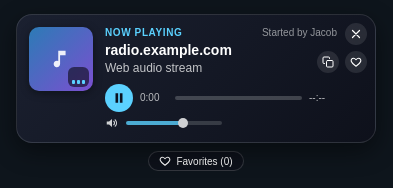
Scenario: RoomStreamWidgetView › can save the song from the chip while the music is off
Click the button named "Turn the room music off for me".
click(356, 34)  # box [345, 23, 367, 45]
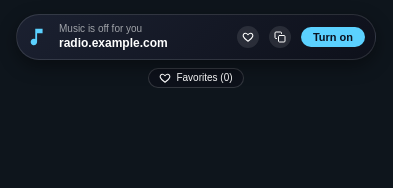
Click the button named "Save this song to my favorites".
click(248, 37)  # box [237, 26, 259, 48]
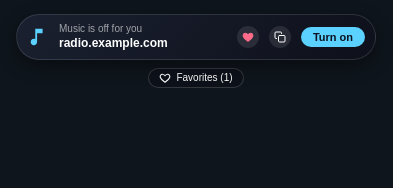
Now the button "Favorites (1)" is shown, box [148, 68, 244, 88]
